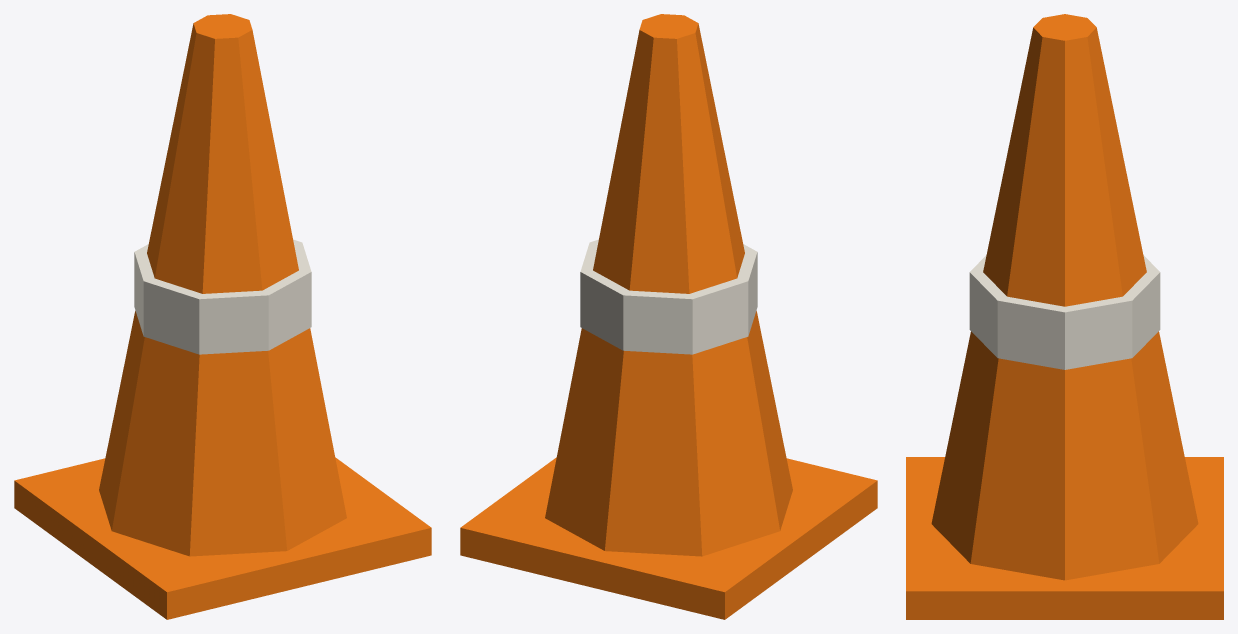
File: traffic_cone.glb
3 renders of one model, left to right at view 1: azimuth 30°, elevation 25°; view 2: azimuth 150°, elevation 25°; view 3: azimuth 270°, elevation 25°, orthographic. The views are drawn at different scales.
Visible parts, largest first — view 1: traffic_cone; view 2: traffic_cone; view 3: traffic_cone.
Boxes of the visible parts, x1=… form: traffic_cone: x1=14, y1=14, x2=431, y2=619; traffic_cone: x1=460, y1=14, x2=877, y2=619; traffic_cone: x1=906, y1=14, x2=1223, y2=619.
Bounding box in the file's own units: 0.4 × 0.73 × 0.4.
